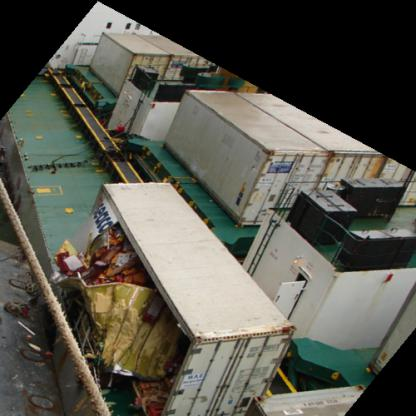Damage: (53, 193, 196, 414)
